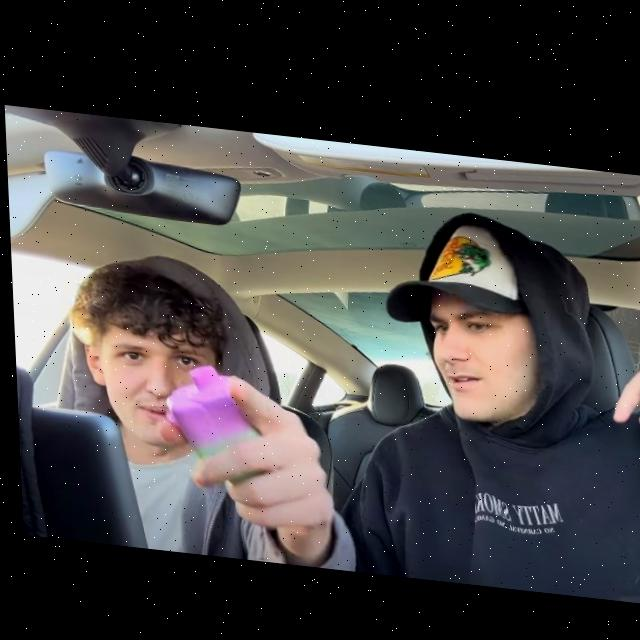vape: (160, 356, 259, 462)
